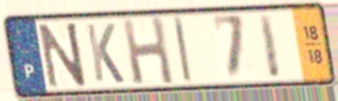7: (209, 14, 247, 83)
H: (120, 15, 177, 87)
I: (256, 12, 283, 81), (171, 15, 194, 86)
K: (83, 21, 126, 85)
N: (36, 19, 89, 90)
